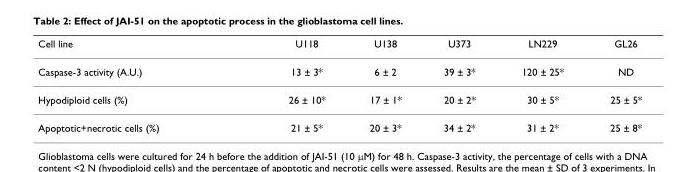table: (37, 37, 641, 133)
table column: (37, 37, 223, 133), (223, 37, 346, 133), (497, 37, 586, 133), (421, 37, 497, 133), (346, 37, 421, 133), (586, 37, 641, 133)
table column header: (37, 37, 641, 57)
table row: (37, 57, 641, 85), (37, 85, 641, 113), (37, 37, 641, 57), (37, 113, 641, 133)
